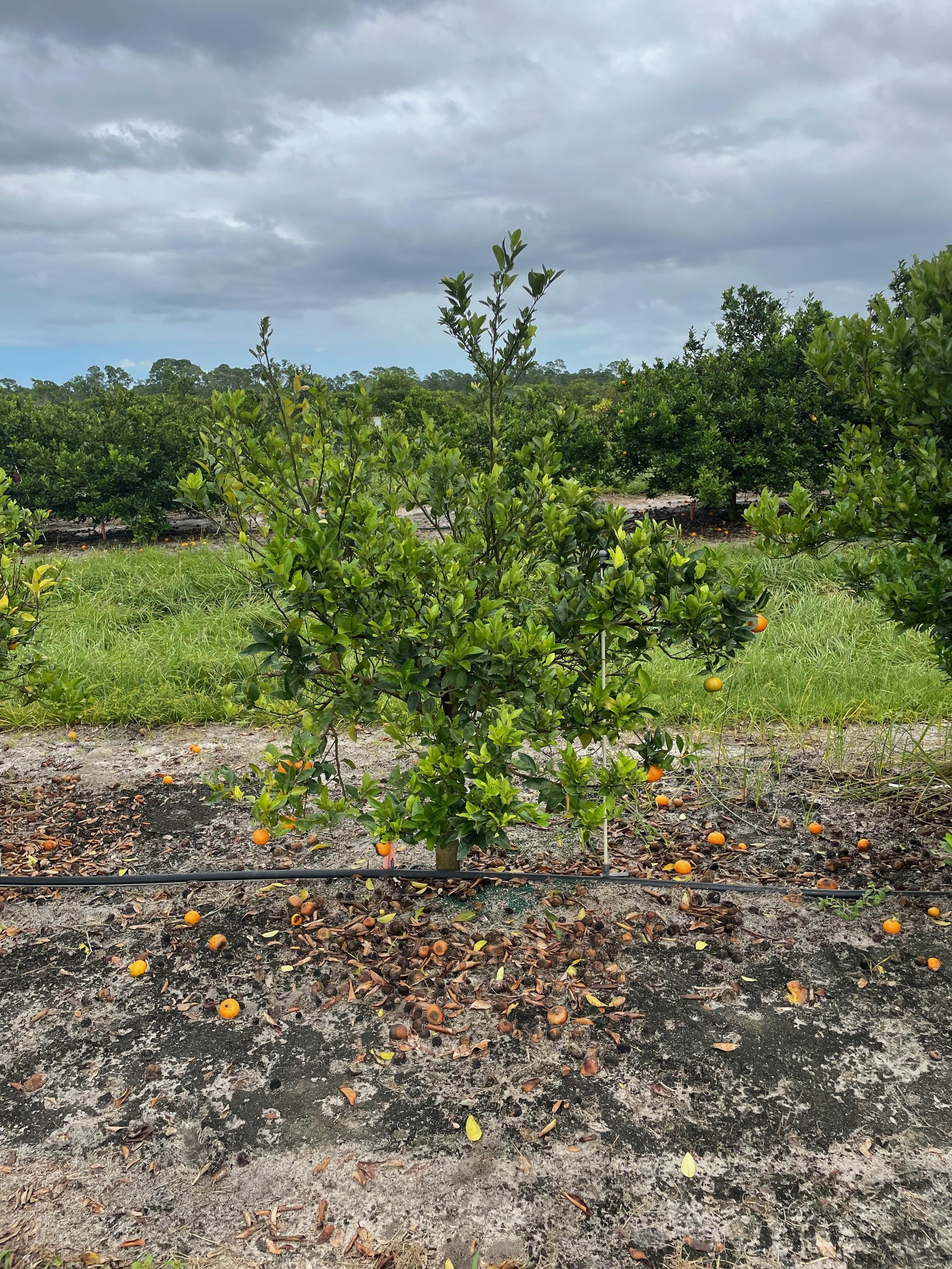fruit_on_ground: (642, 761, 665, 784), (745, 612, 769, 634), (275, 757, 298, 779), (276, 813, 299, 833), (702, 675, 725, 695), (250, 826, 271, 847), (292, 757, 313, 777), (373, 838, 393, 858), (4, 638, 19, 652)
fruit_on_tree: (216, 995, 241, 1020), (546, 1003, 569, 1027), (126, 957, 150, 979), (207, 932, 230, 952), (425, 1005, 446, 1026), (578, 1059, 600, 1078), (881, 917, 903, 936), (672, 856, 693, 875), (183, 908, 202, 926), (389, 1023, 409, 1040), (706, 829, 726, 846), (775, 814, 795, 830), (816, 876, 837, 891), (496, 1017, 514, 1034), (432, 938, 450, 955), (285, 892, 303, 909), (300, 898, 317, 915), (925, 955, 943, 971), (289, 911, 305, 927), (653, 793, 670, 808), (855, 836, 871, 851), (807, 820, 824, 834), (41, 836, 57, 850), (925, 904, 941, 918), (362, 914, 377, 928), (417, 944, 431, 958), (305, 832, 319, 846), (671, 795, 684, 808), (161, 774, 175, 786), (66, 729, 79, 741), (191, 745, 202, 754), (188, 742, 198, 751)
